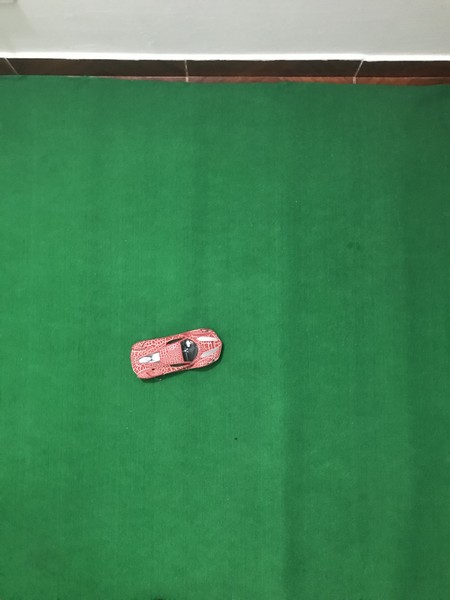RC: (127, 325, 226, 384)
